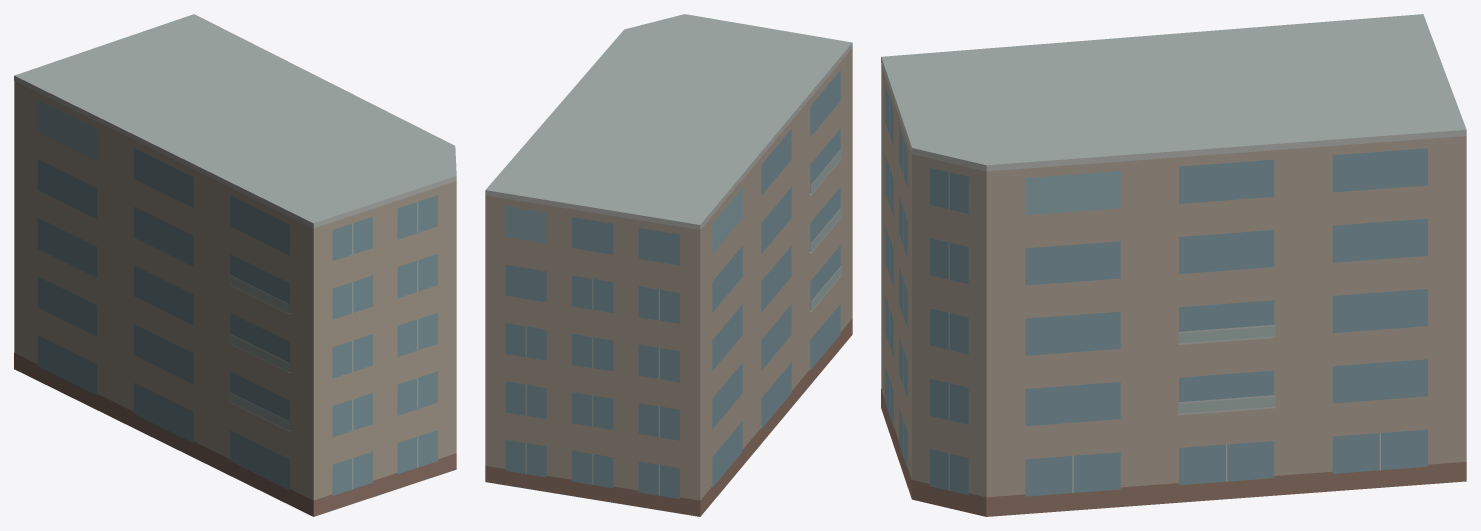
The model's file is survey-upis-32575703.glb.
3 views of the same model, side by side, from view 1: azimuth 30°, elevation 25°; view 2: azimuth 150°, elevation 25°; view 3: azimuth 270°, elevation 25° (orthographic). The views are drawn at different scales.
Visible parts, largest first — view 1: survey-upis-32575703.tmp; view 2: survey-upis-32575703.tmp; view 3: survey-upis-32575703.tmp.
Boxes of the visible parts, x1,y1,x2,y2 form: survey-upis-32575703.tmp: (14, 14, 456, 516); survey-upis-32575703.tmp: (485, 14, 852, 516); survey-upis-32575703.tmp: (881, 14, 1466, 516).
Bounding box in the file's own units: 12.84 × 13.9 × 20.99.
